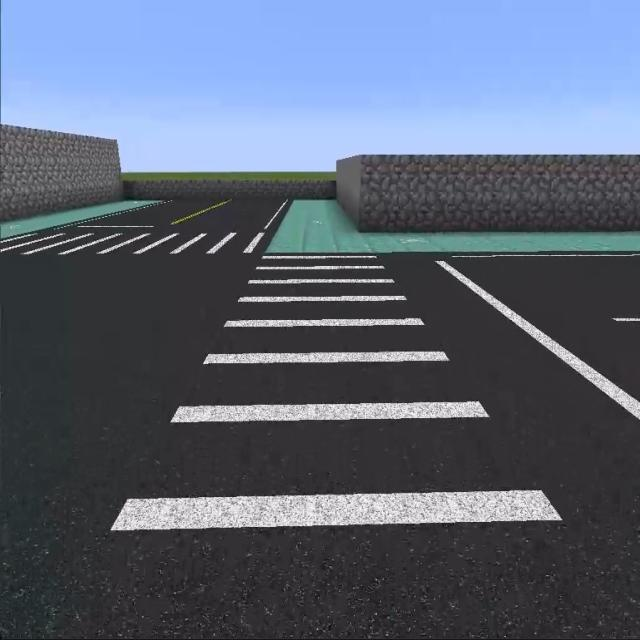crosswalk: (52, 253, 635, 619), (1, 227, 278, 263)
road: (6, 267, 242, 632), (398, 250, 637, 594), (68, 194, 293, 232)
sidewalk: (266, 200, 639, 253), (0, 200, 157, 239)
